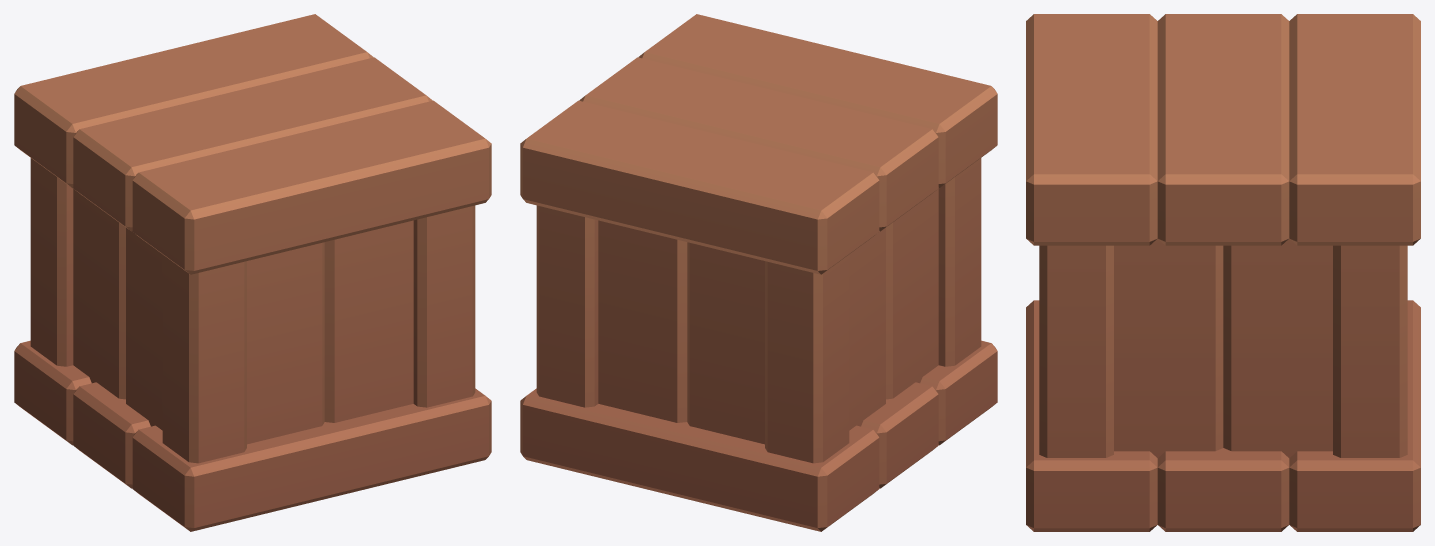
The model's file is plateforme-bois.glb.
The picture shows the model from 3 angles, left to right: view 1: azimuth 30°, elevation 25°; view 2: azimuth 150°, elevation 25°; view 3: azimuth 270°, elevation 25°; orthographic projection. The views are drawn at different scales.
Parts seen in each view (by area): view 1: platform_wood_1x1x1; view 2: platform_wood_1x1x1; view 3: platform_wood_1x1x1.
Part boxes in pixels (bbox=[...]): platform_wood_1x1x1: bbox=[14, 14, 491, 531]; platform_wood_1x1x1: bbox=[520, 14, 997, 531]; platform_wood_1x1x1: bbox=[1026, 14, 1420, 531].
Bounding box in the file's own units: 1 × 1 × 1.
Materials: 1 (1 with a texture image).
